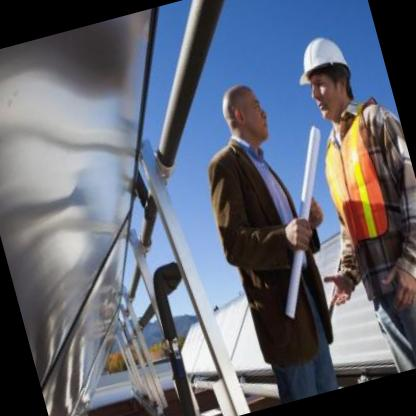head: (212, 74, 280, 155)
helmet: (288, 21, 366, 132)
person: (177, 69, 363, 409), (270, 22, 416, 383)
